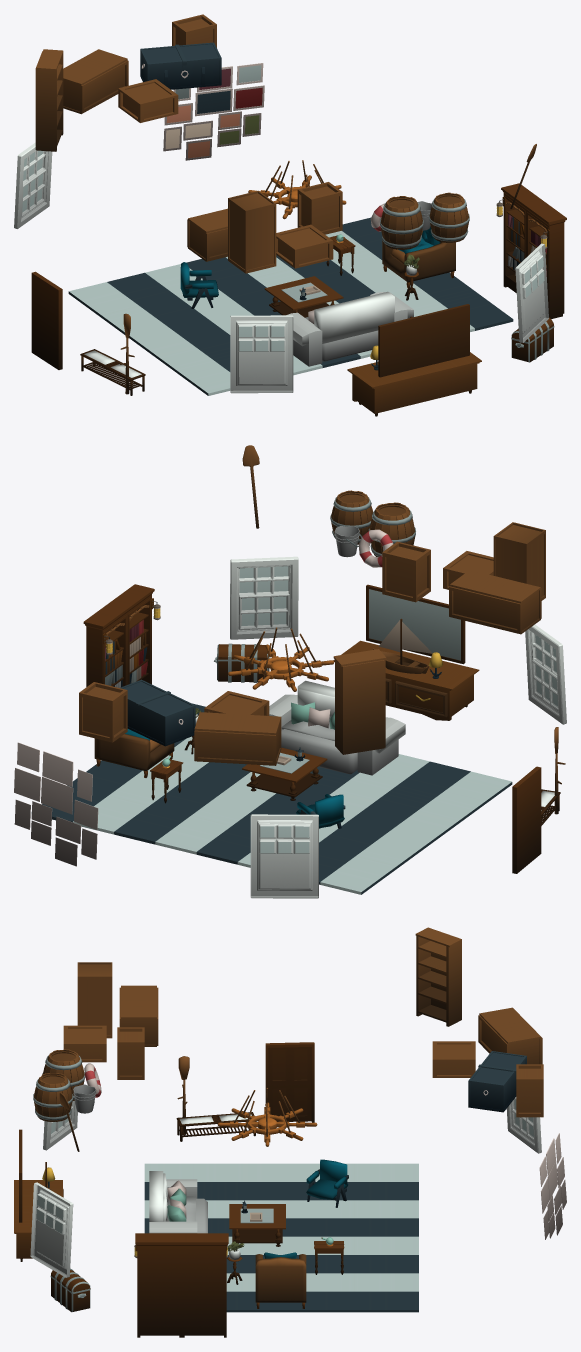
Rendered from VuurtorenInterieurItems.fbx.
The picture shows the model from 3 angles, top to bottom: view 1: azimuth 30°, elevation 25°; view 2: azimuth 150°, elevation 25°; view 3: azimuth 270°, elevation 25°; orthographic projection. The views are drawn at different scales.
Visible parts, largest first — view 1: Interieurtweedeetage, Carpet, Window.003, SpiegelKast, SofaLowPoly, lanternmesh.001, Chairs, Cube.003, Cube.006, Cube.004, LoungeChair, Window.004 (+1 smaller); view 2: Interieurtweedeetage, Carpet, Window.003, SpiegelKast, lanternmesh.001, SofaLowPoly, Window.004, Cube.003, Chairs, Steering wheel, Cube.262, Cube.004 (+4 smaller); view 3: Carpet, Interieurtweedeetage, Window.003, lanternmesh.001, SofaLowPoly, Chairs, Cube.003, SpiegelKast, Window.004, Cube.006, Steering wheel, LoungeChair (+2 smaller).
Boxes of the visible parts, <box> form: Interieurtweedeetage: <box>35,14,536,273</box>; Carpet: <box>68,217,513,395</box>; Window.003: <box>14,63,548,393</box>; SpiegelKast: <box>347,304,481,416</box>; SofaLowPoly: <box>286,291,413,366</box>; lanternmesh.001: <box>496,183,566,319</box>; Chairs: <box>382,226,455,288</box>; Cube.003: <box>264,276,343,317</box>; Cube.006: <box>80,313,145,395</box>; Cube.004: <box>511,317,554,362</box>; LoungeChair: <box>180,262,218,308</box>; Window.004: <box>515,245,548,342</box>; Interieurtweedeetage: <box>79,445,545,765</box>; Carpet: <box>31,703,512,894</box>; Window.003: <box>14,556,566,898</box>; SpiegelKast: <box>333,584,479,720</box>; lanternmesh.001: <box>83,584,160,687</box>; SofaLowPoly: <box>269,680,405,775</box>; Window.004: <box>230,557,298,639</box>; Cube.003: <box>242,747,327,800</box>; Chairs: <box>94,729,174,777</box>; Steering wheel: <box>228,644,334,691</box>; Cube.262: <box>373,618,432,673</box>; Cube.004: <box>214,643,269,682</box>; Carpet: <box>144,1163,418,1312</box>; Interieurtweedeetage: <box>33,927,543,1151</box>; Window.003: <box>30,1042,566,1277</box>; lanternmesh.001: <box>134,1233,228,1337</box>; SofaLowPoly: <box>149,1171,207,1233</box>; Chairs: <box>255,1252,306,1308</box>; Cube.003: <box>229,1200,285,1246</box>; SpiegelKast: <box>14,1129,63,1261</box>; Window.004: <box>30,1183,73,1277</box>; Cube.006: <box>176,1056,255,1141</box>; Steering wheel: <box>217,1102,317,1146</box>; LoungeChair: <box>306,1159,348,1207</box>.
Size of the model in its own units: 1340 by 671 by 1471.
